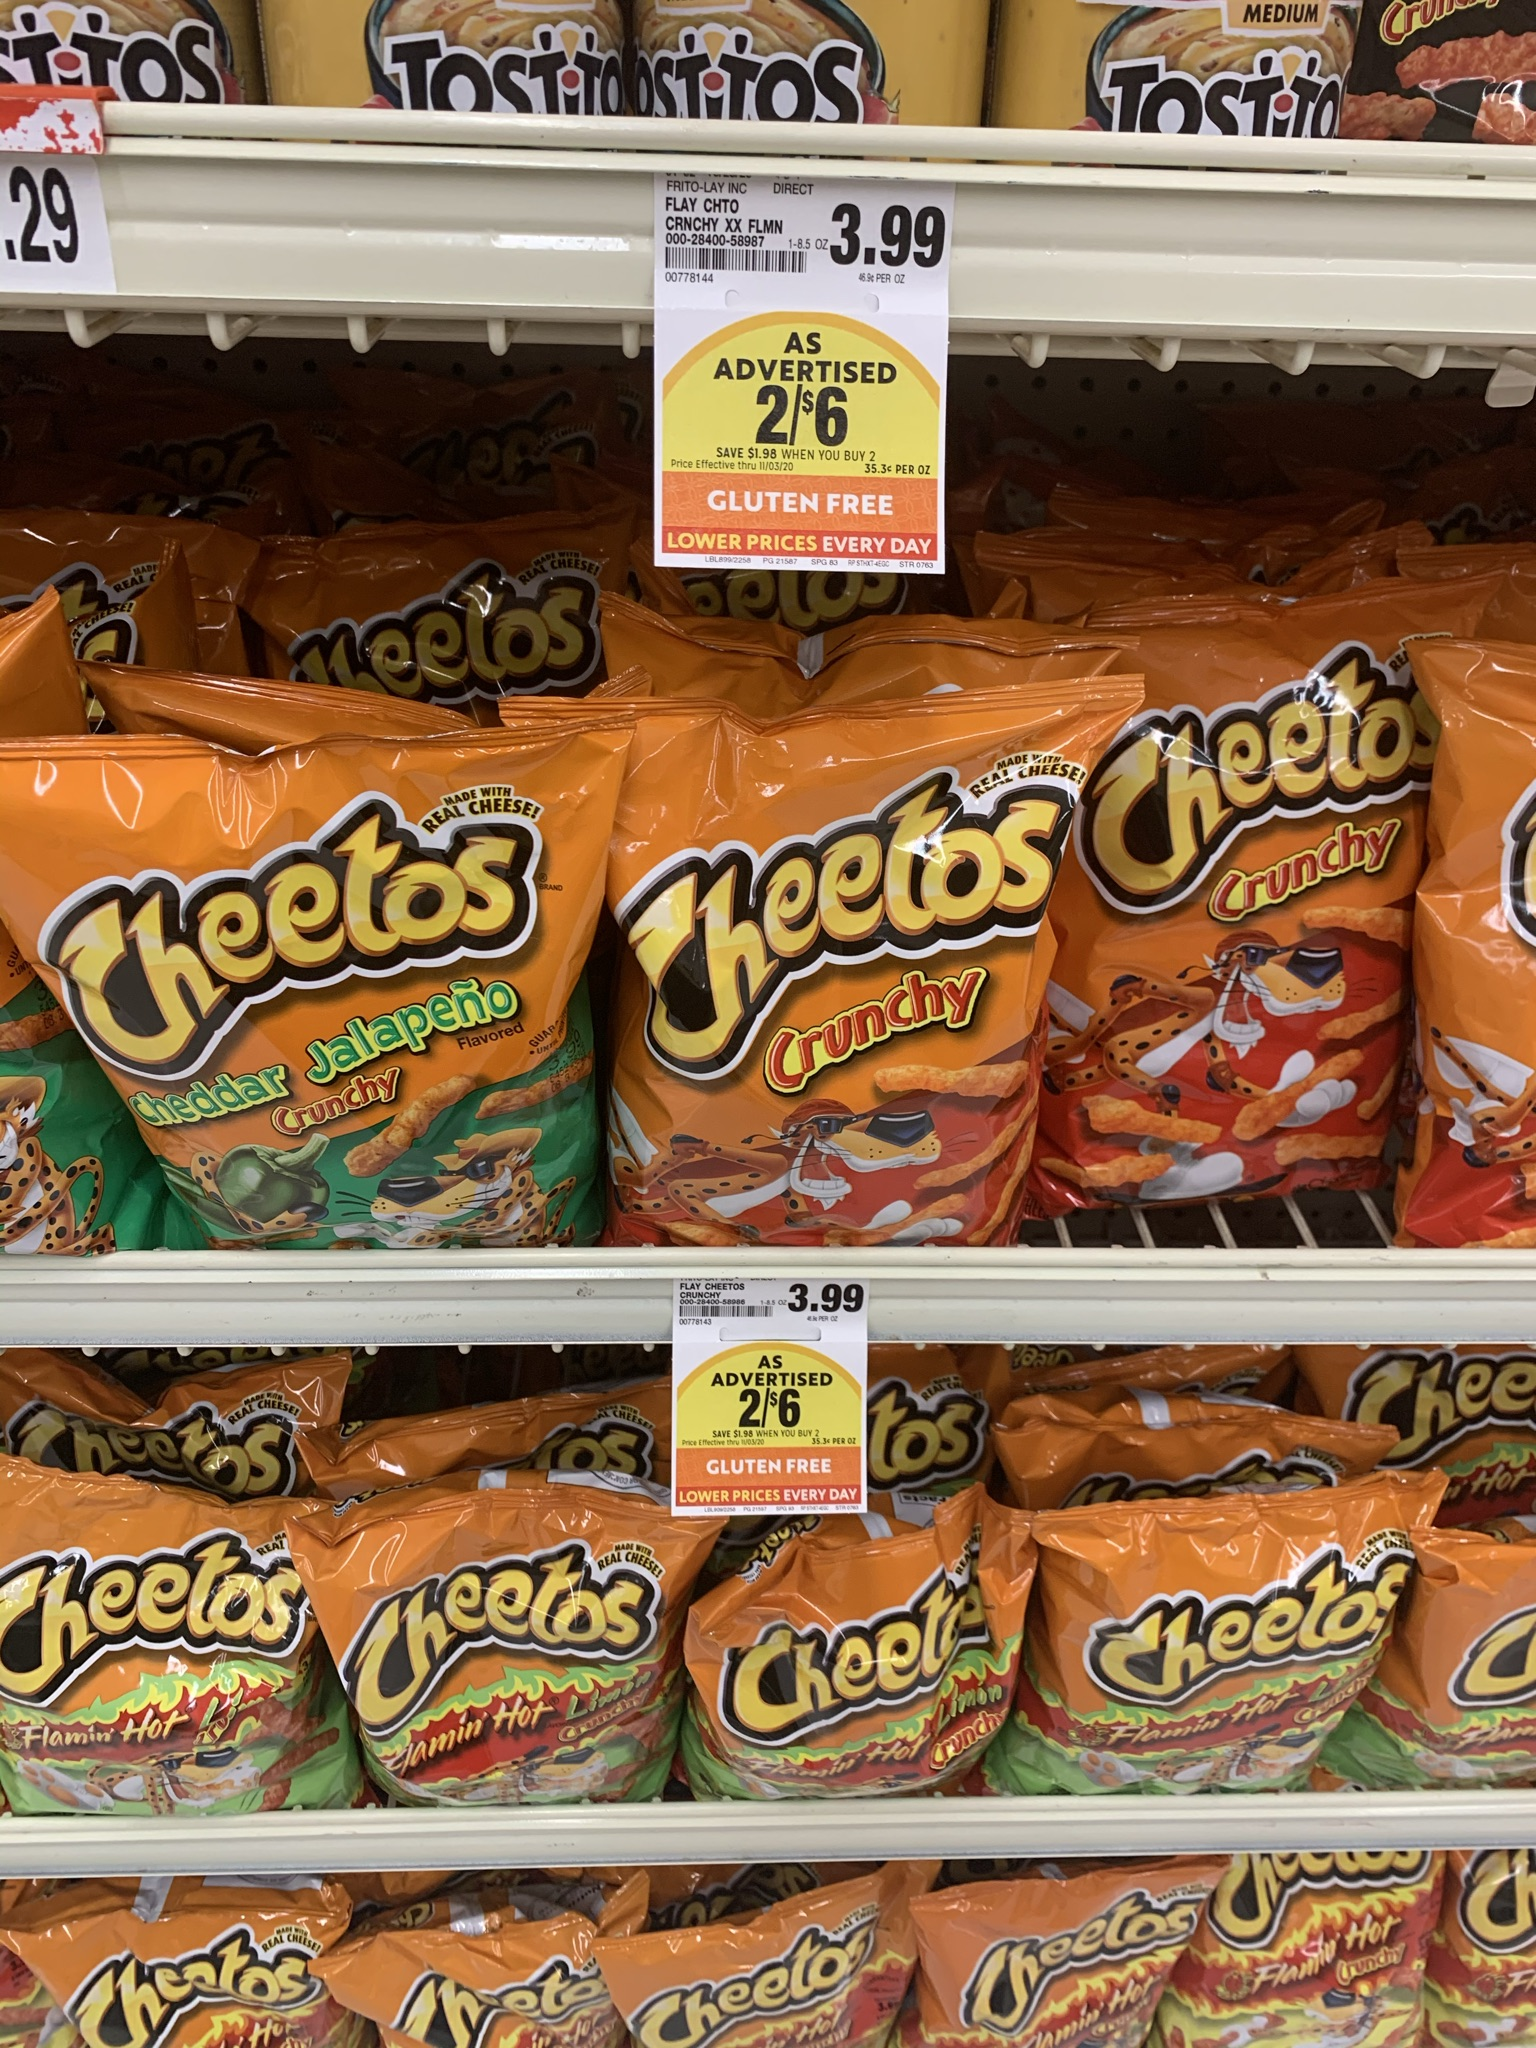cheetos chips: (24, 774, 594, 1219), (647, 739, 1021, 1230), (1084, 724, 1397, 1150), (332, 1506, 674, 1806), (6, 1480, 311, 1809), (1063, 1514, 1371, 1784), (742, 1556, 1028, 1784), (1242, 1864, 1457, 2048), (925, 1896, 1183, 2048), (342, 1946, 623, 2048), (647, 1946, 892, 2048), (152, 1909, 319, 2024)
